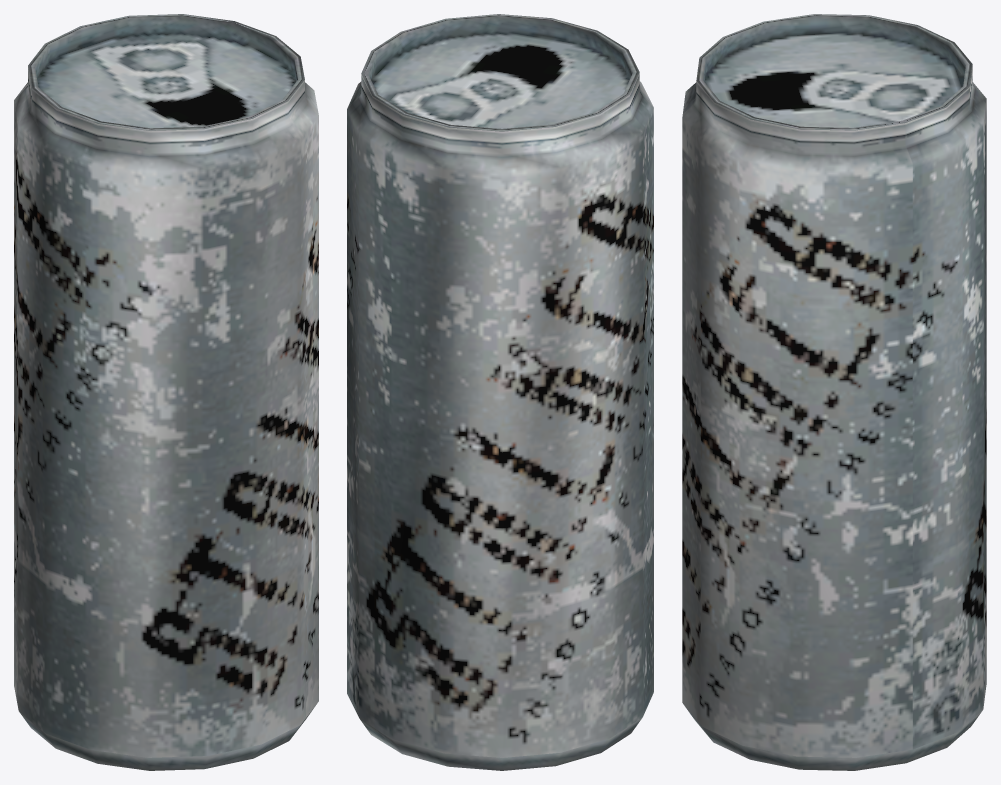
File: drink_stalker.fbx
3 views of the same model, side by side, from view 1: azimuth 30°, elevation 25°; view 2: azimuth 150°, elevation 25°; view 3: azimuth 270°, elevation 25° (orthographic).
Parts seen in each view (by area): view 1: 0; view 2: 0; view 3: 0.
Part boxes in pixels (<box>): 0: <box>14,14,318,770</box>; 0: <box>347,14,653,770</box>; 0: <box>682,14,986,770</box>.
Bounding box in the file's own units: 0.0756 × 0.1756 × 0.0756.
